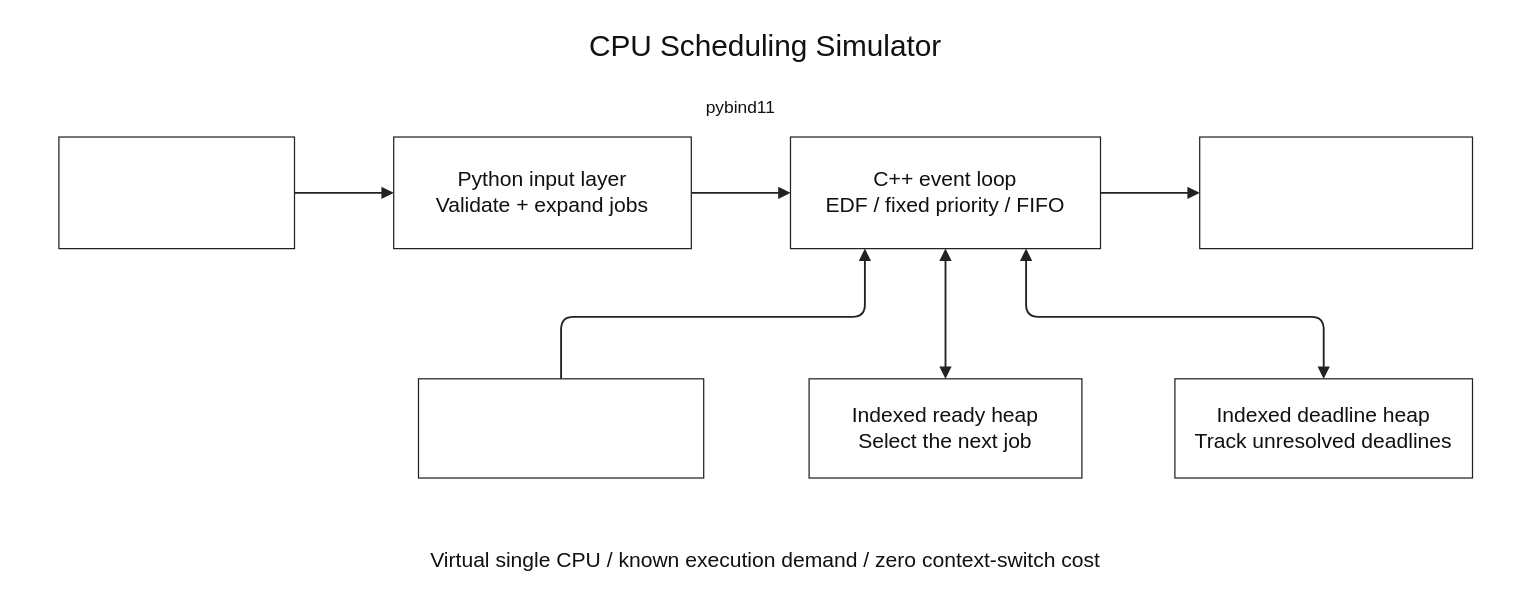
The diagram is 1530 pixels wide and 606 high, and some of its shapes have lost their labels. The shapes that lost their labels are listed below. From the top down, each one's box as (x1, y1, x2, y2) in pixels, then its label:
(58, 136, 294, 249): CLI / Streamlit UI Workload JSON
(1198, 136, 1472, 249): Simulation results Timeline / metrics / trace
(417, 378, 704, 478): Sorted event streams Releases + control actions
